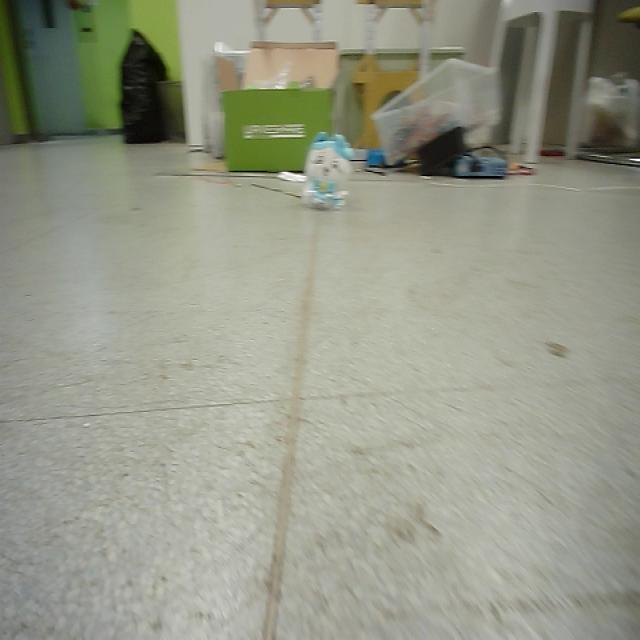xiaoba: (296, 127, 351, 210)
